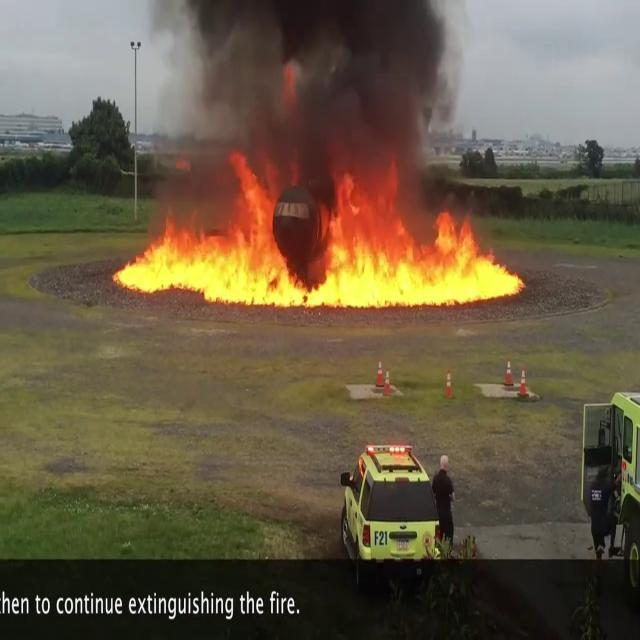Fire: (117, 156, 521, 314)
Smoke: (140, 0, 495, 181)
